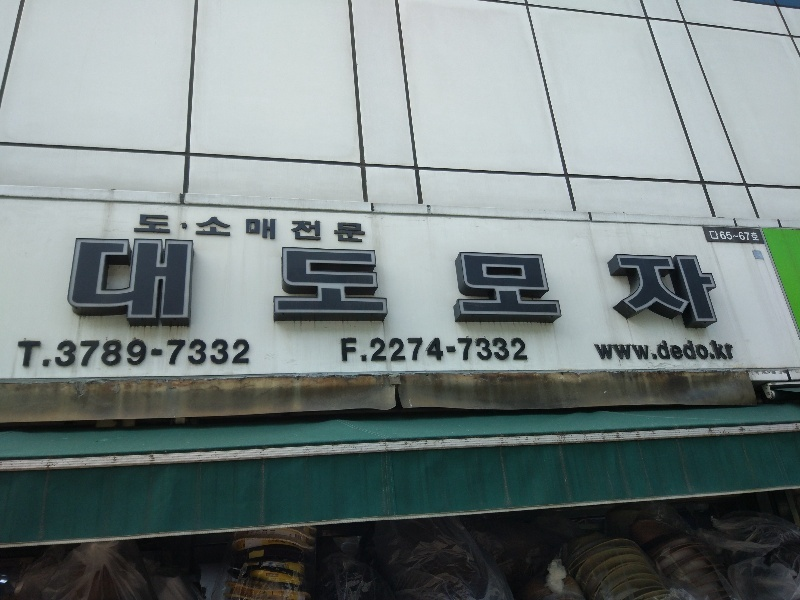text: (81, 237, 96, 329), (97, 237, 112, 329), (113, 237, 128, 329), (129, 237, 144, 329), (145, 237, 160, 329), (161, 237, 176, 329), (177, 237, 192, 329), (273, 247, 288, 324), (289, 247, 304, 324), (305, 247, 320, 324), (321, 247, 336, 324), (337, 247, 352, 324), (353, 247, 368, 324), (369, 247, 384, 324), (609, 255, 624, 331), (625, 255, 640, 331), (641, 255, 656, 331), (657, 255, 672, 331), (673, 255, 688, 331), (689, 255, 704, 331), (705, 255, 720, 331), (449, 252, 464, 325), (465, 252, 480, 325), (481, 252, 496, 325), (497, 252, 512, 325), (513, 252, 528, 325), (529, 252, 544, 325), (545, 252, 560, 325), (75, 237, 80, 329), (721, 255, 727, 331), (209, 217, 224, 244), (225, 217, 240, 244), (241, 217, 256, 244), (257, 217, 272, 244), (273, 217, 288, 244), (289, 217, 304, 244), (305, 217, 320, 244), (321, 217, 336, 244), (337, 217, 352, 244), (353, 217, 368, 244), (17, 341, 32, 368), (33, 341, 48, 368), (49, 341, 64, 368), (65, 341, 80, 368), (81, 341, 96, 368), (97, 341, 112, 368), (113, 341, 128, 368), (129, 341, 144, 368), (145, 341, 160, 368), (161, 341, 176, 368), (177, 341, 192, 368), (193, 341, 208, 368), (209, 341, 224, 368), (225, 341, 240, 368), (353, 338, 368, 363), (369, 338, 384, 363), (385, 338, 400, 363), (401, 338, 416, 363), (417, 338, 432, 363), (433, 338, 448, 363), (449, 338, 464, 363), (465, 338, 480, 363), (481, 338, 496, 363), (497, 338, 512, 363), (513, 338, 528, 363), (561, 252, 566, 325), (593, 340, 608, 362), (609, 340, 624, 362), (625, 340, 640, 362), (641, 340, 656, 362), (657, 340, 672, 362), (673, 340, 688, 362), (689, 340, 704, 362), (705, 340, 720, 362), (721, 340, 736, 362), (339, 338, 352, 363), (196, 217, 208, 244), (145, 214, 160, 235), (385, 247, 389, 324), (161, 214, 174, 235), (241, 341, 251, 368), (605, 255, 608, 331), (193, 237, 195, 329), (721, 231, 736, 242), (737, 231, 752, 242), (137, 214, 144, 235), (709, 231, 720, 242), (753, 231, 760, 242), (265, 574, 272, 579), (273, 574, 279, 579), (529, 338, 530, 363), (267, 564, 272, 569), (737, 340, 738, 362)
